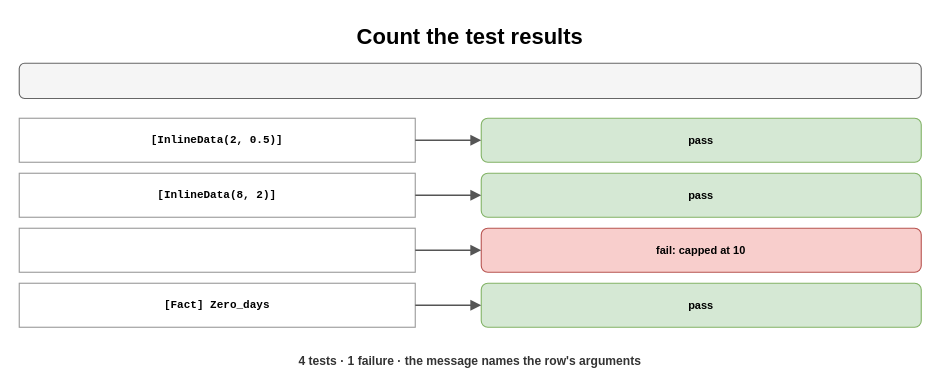
The diagram is 941 pixels wide and 392 high, and some of its shapes have lost their labels. Each missing label, with the box of its shape:
[InlineData(60, 15)]: (18, 227, 415, 272)
Each InlineData row is a separate test case: (18, 62, 921, 98)
